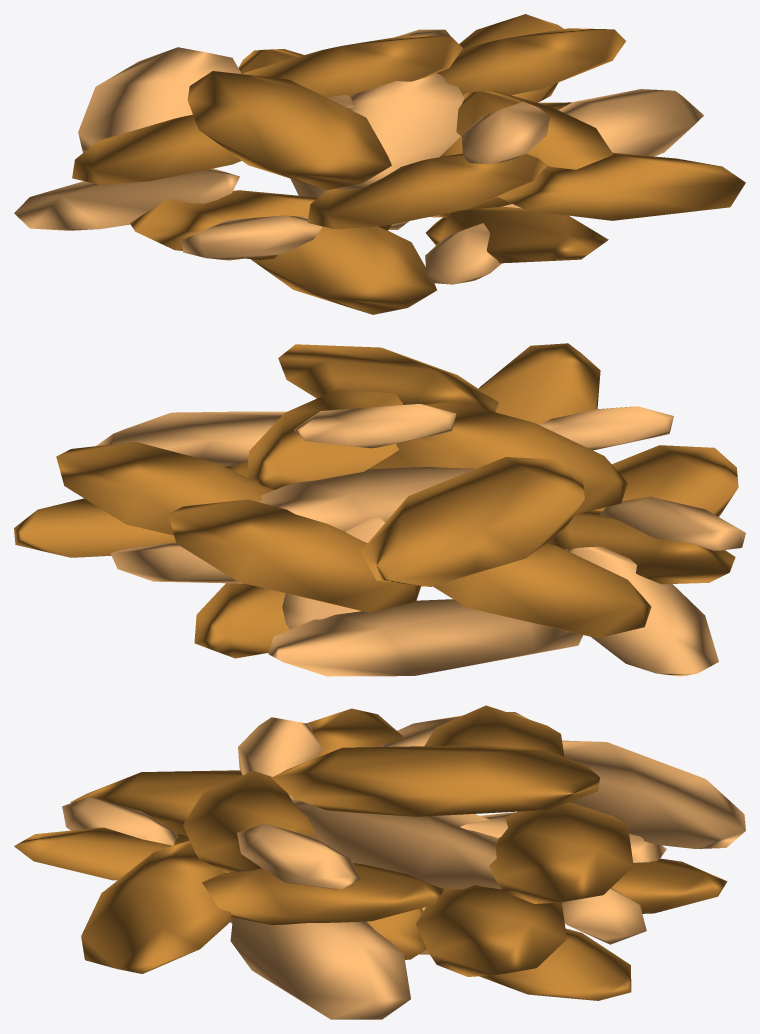
The model's file is seed.fbx.
The picture shows the model from 3 angles, top to bottom: view 1: azimuth 30°, elevation 25°; view 2: azimuth 150°, elevation 25°; view 3: azimuth 270°, elevation 25°; orthographic projection. The views are drawn at different scales.
Visible parts, largest first — view 1: Sphere021, Sphere016, Sphere001, Sphere018, Sphere015, Sphere011, Sphere019, Sphere009, Sphere004, Sphere014, Sphere024, Sphere006 (+8 smaller); view 2: Sphere021, Sphere011, Sphere019, Sphere014, Sphere015, Sphere018, Sphere016, Sphere009, Sphere022, Sphere004, Sphere024, Sphere023 (+10 smaller); view 3: Sphere021, Sphere006, Sphere016, Sphere011, Sphere019, Sphere004, Sphere015, Sphere022, Sphere018, Sphere012, Sphere024, Sphere003 (+10 smaller).
Part boxes in pixels (left/top/right/bottom): Sphere021: left=187, top=71, right=391, bottom=190; Sphere016: left=497, top=152, right=745, bottom=220; Sphere001: left=251, top=226, right=436, bottom=314; Sphere018: left=307, top=153, right=547, bottom=229; Sphere015: left=437, top=28, right=625, bottom=95; Sphere011: left=78, top=47, right=241, bottom=152; Sphere019: left=243, top=35, right=462, bottom=97; Sphere009: left=14, top=168, right=239, bottom=230; Sphere004: left=337, top=73, right=464, bottom=190; Sphere014: left=72, top=114, right=241, bottom=184; Sphere024: left=426, top=206, right=608, bottom=263; Sphere006: left=558, top=89, right=703, bottom=156; Sphere021: left=360, top=457, right=584, bottom=586; Sphere011: left=268, top=599, right=583, bottom=676; Sphere019: left=168, top=499, right=421, bottom=612; Sphere014: left=433, top=543, right=651, bottom=638; Sphere015: left=56, top=442, right=273, bottom=535; Sphere018: left=394, top=401, right=627, bottom=514; Sphere016: left=278, top=344, right=498, bottom=412; Sphere009: left=565, top=546, right=718, bottom=676; Sphere022: left=247, top=389, right=402, bottom=489; Sphere004: left=258, top=467, right=475, bottom=531; Sphere024: left=478, top=343, right=600, bottom=424; Sphere023: left=546, top=510, right=735, bottom=584; Sphere021: left=271, top=745, right=599, bottom=816; Sphere006: left=230, top=918, right=410, bottom=1019; Sphere016: left=81, top=840, right=233, bottom=973; Sphere011: left=562, top=740, right=745, bottom=848; Sphere019: left=489, top=802, right=633, bottom=903; Sphere004: left=288, top=794, right=501, bottom=889; Sphere015: left=416, top=885, right=566, bottom=976; Sphere022: left=202, top=863, right=444, bottom=925; Sphere018: left=183, top=770, right=316, bottom=872; Sphere012: left=479, top=928, right=631, bottom=1000; Sphere024: left=14, top=827, right=189, bottom=880; Sphere003: left=237, top=823, right=360, bottom=889.
Bounding box in the file's own units: 6519 × 766 × 6240.
